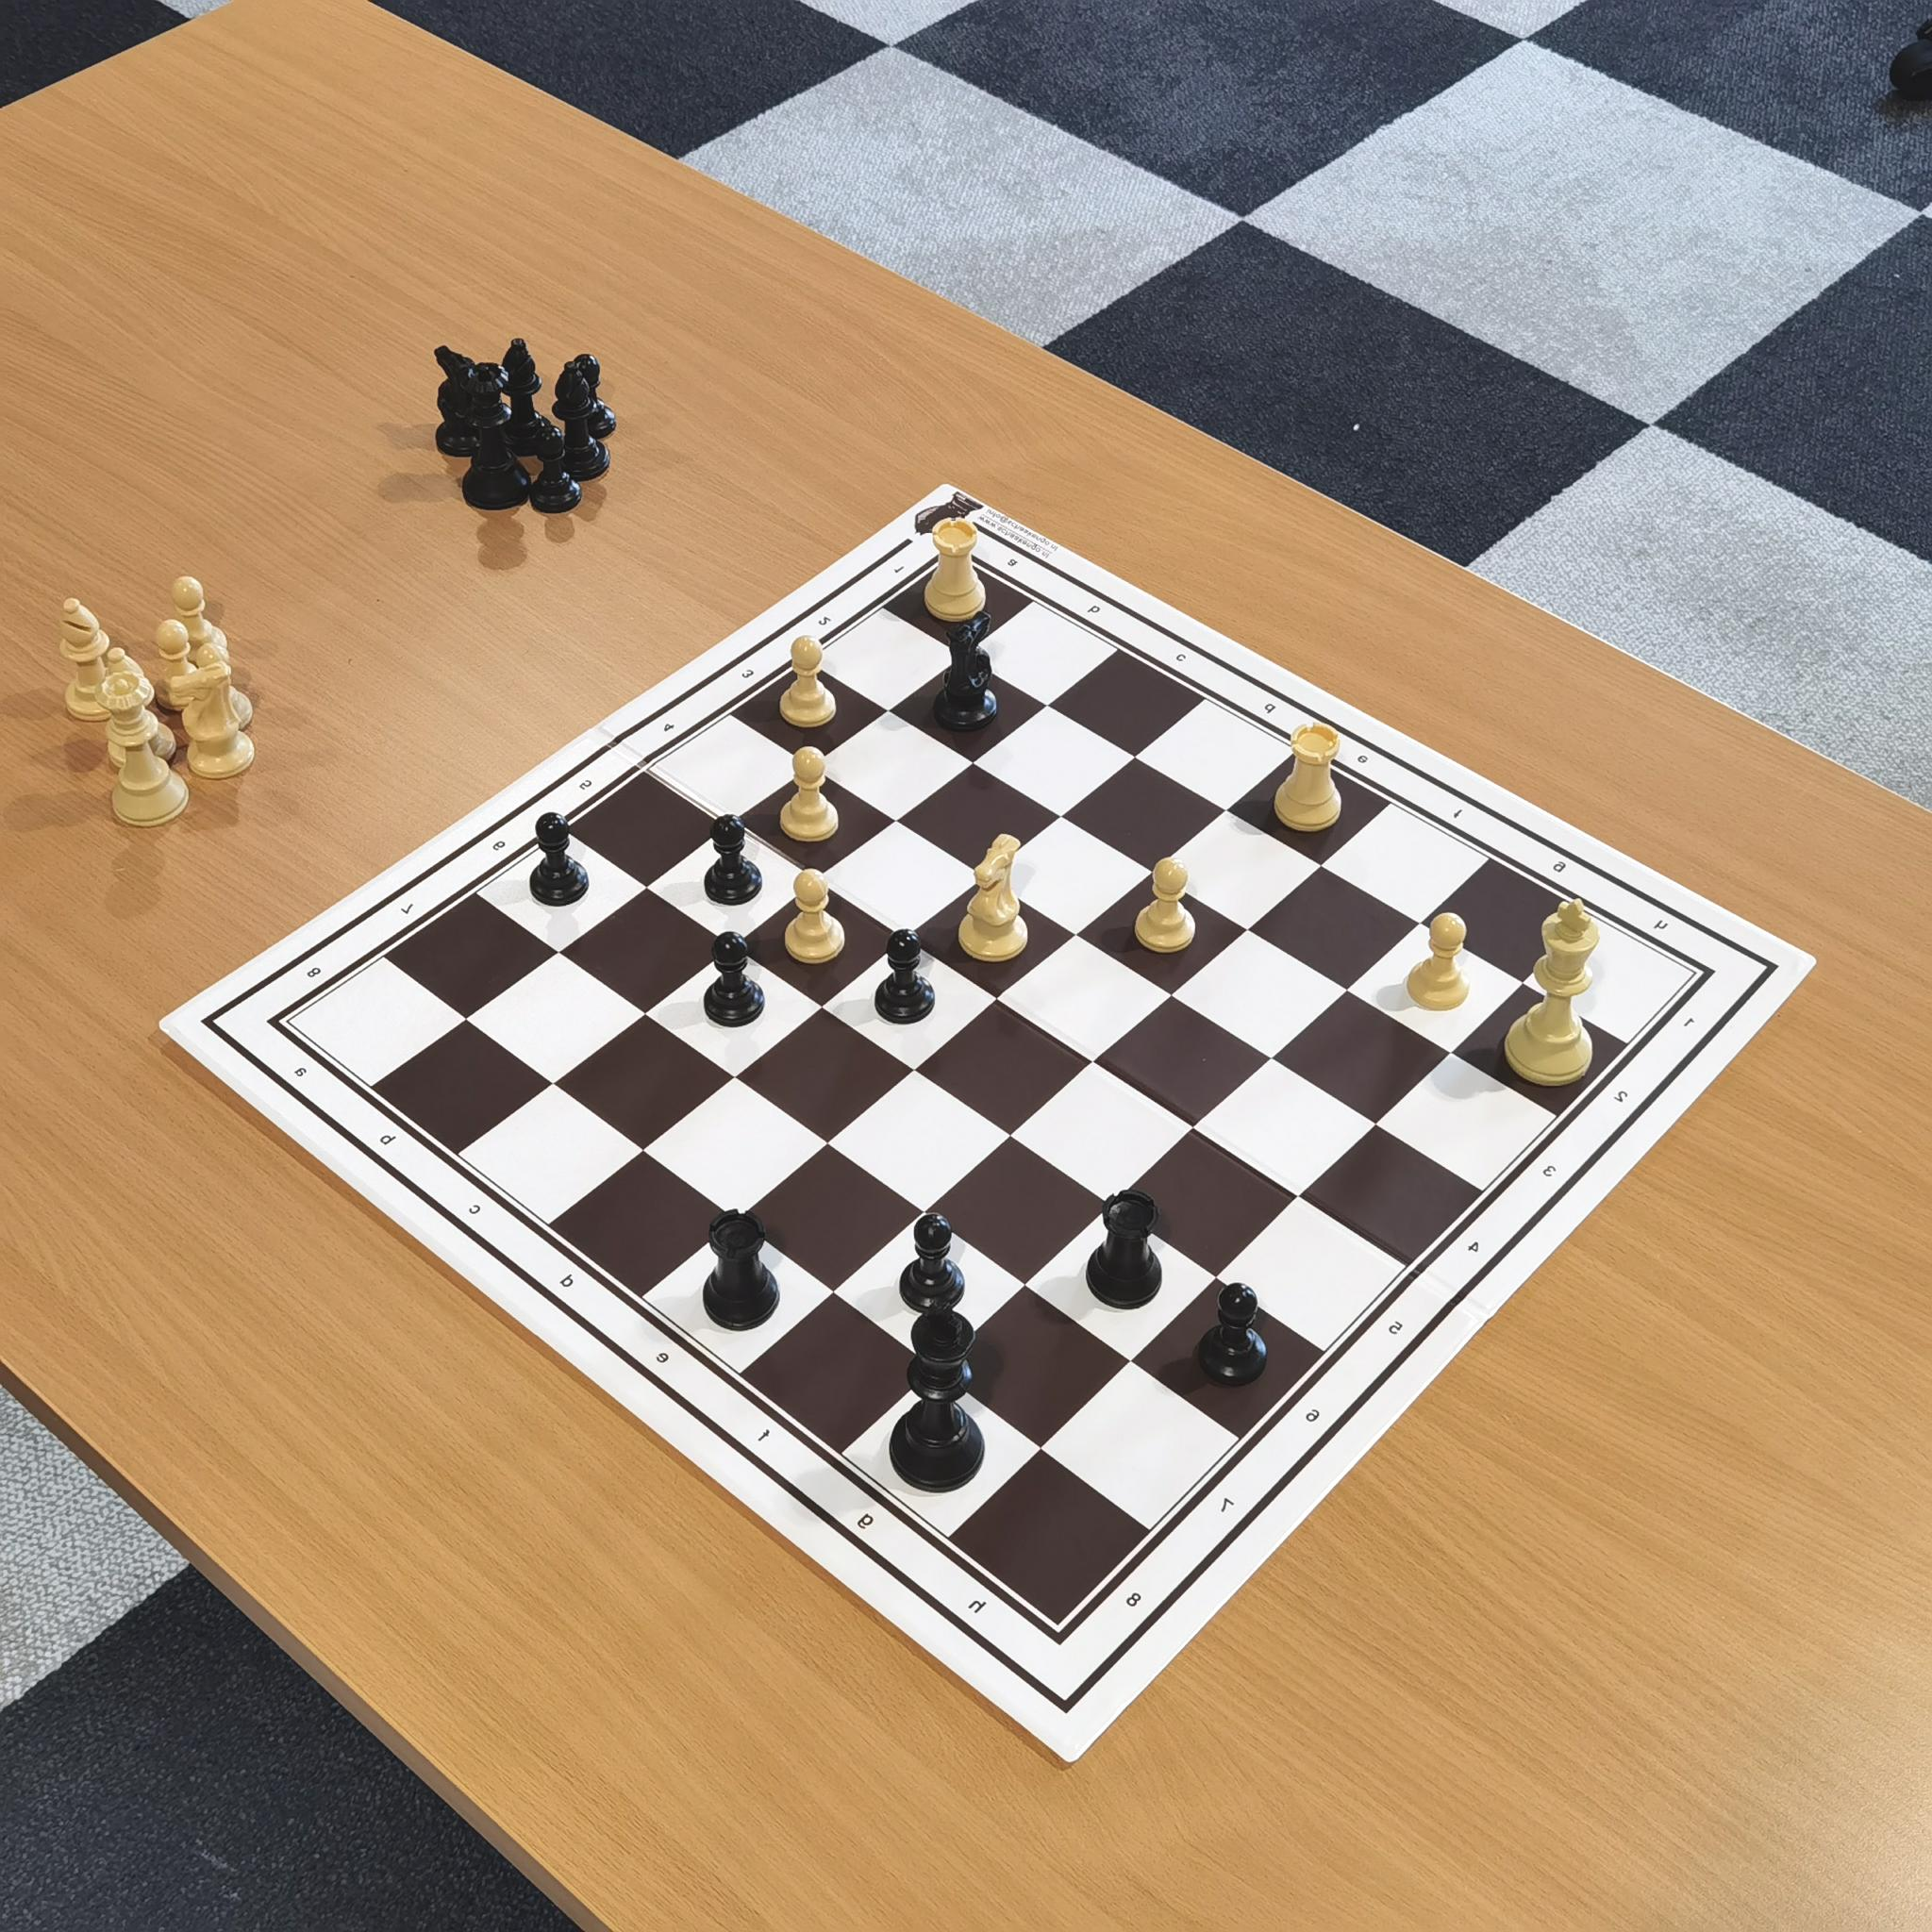corners: (1030, 1605, 1086, 1656), (253, 1003, 313, 1047), (1668, 954, 1727, 996), (929, 533, 982, 579)
eight: (1106, 1582, 1148, 1624), (292, 957, 331, 991)
one: (1670, 1005, 1711, 1051), (876, 550, 911, 587)
